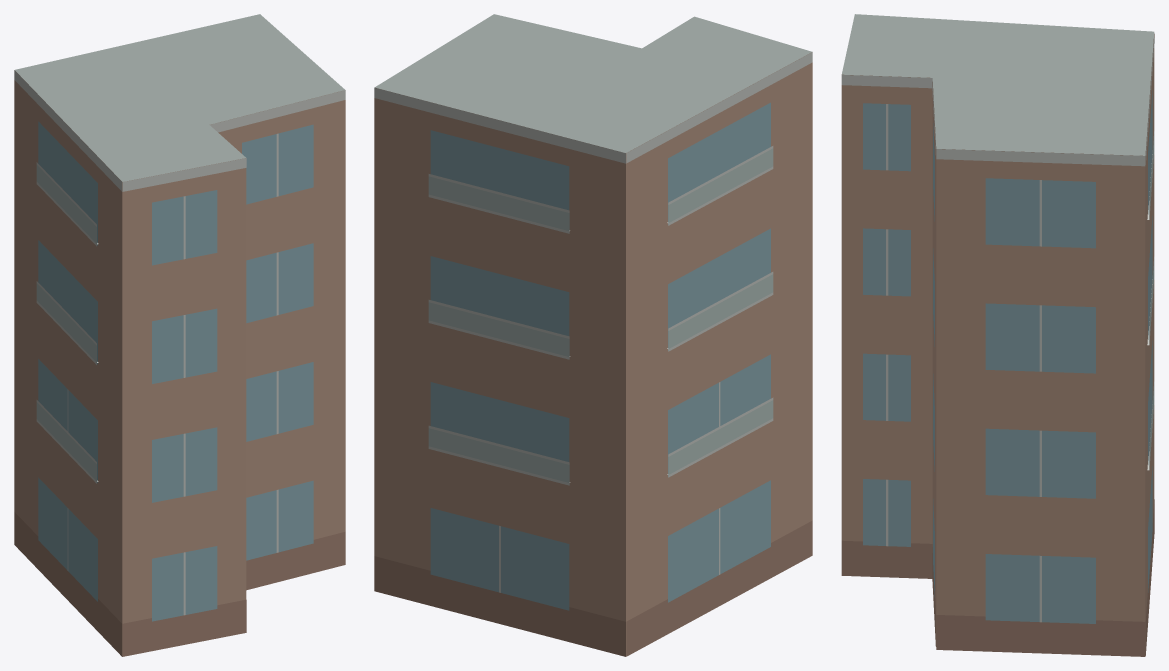
The model's file is survey-upis-32473480.glb.
3 renders of one model, left to right at view 1: azimuth 30°, elevation 25°; view 2: azimuth 150°, elevation 25°; view 3: azimuth 270°, elevation 25°, orthographic. The views are drawn at different scales.
Visible parts, largest first — view 1: survey-upis-32473480.tmp; view 2: survey-upis-32473480.tmp; view 3: survey-upis-32473480.tmp.
Part boxes in pixels (left/top/right/bottom): survey-upis-32473480.tmp: left=14, top=14, right=345, bottom=656; survey-upis-32473480.tmp: left=374, top=14, right=812, bottom=656; survey-upis-32473480.tmp: left=841, top=14, right=1154, bottom=656.
Size of the model in its own units: 7.11 by 11.7 by 6.63.
